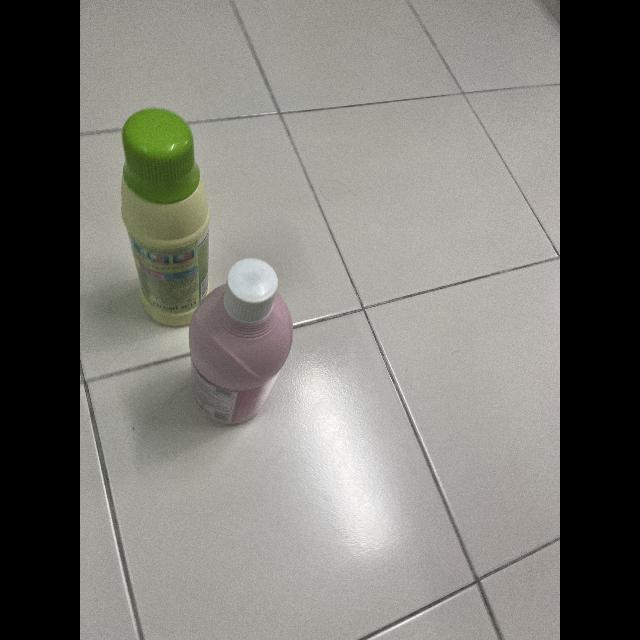chemical_plastic_bottle: (115, 105, 217, 333), (187, 252, 299, 430)
